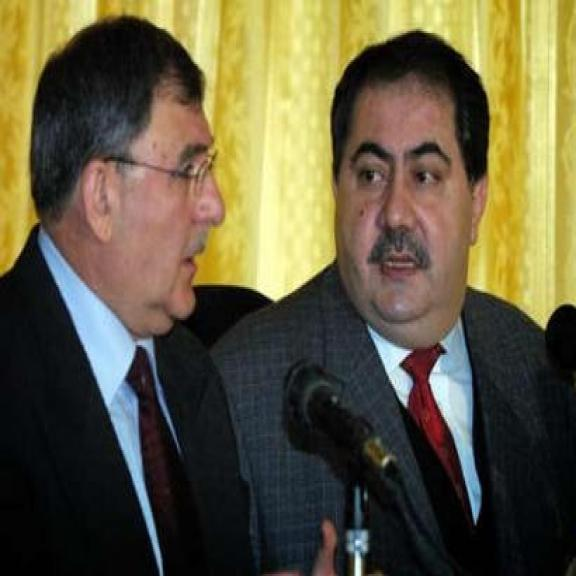face: (331, 93, 490, 332), (81, 78, 227, 335)
